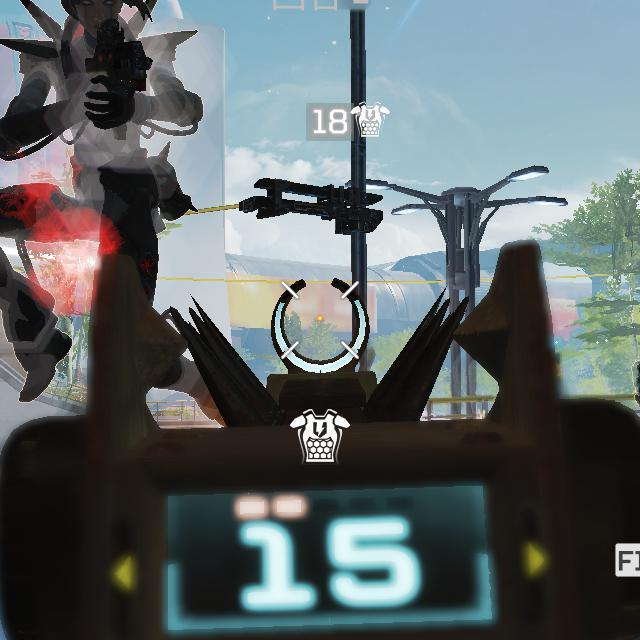avatar: (0, 0, 207, 408)
